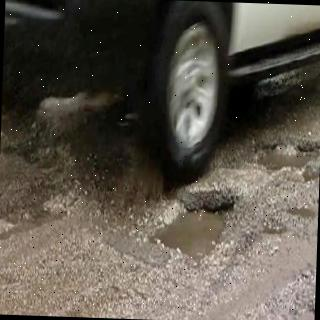pothole: (161, 191, 234, 255), (256, 134, 319, 167)
